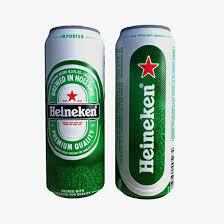beer: (113, 26, 176, 200), (45, 25, 107, 199)
